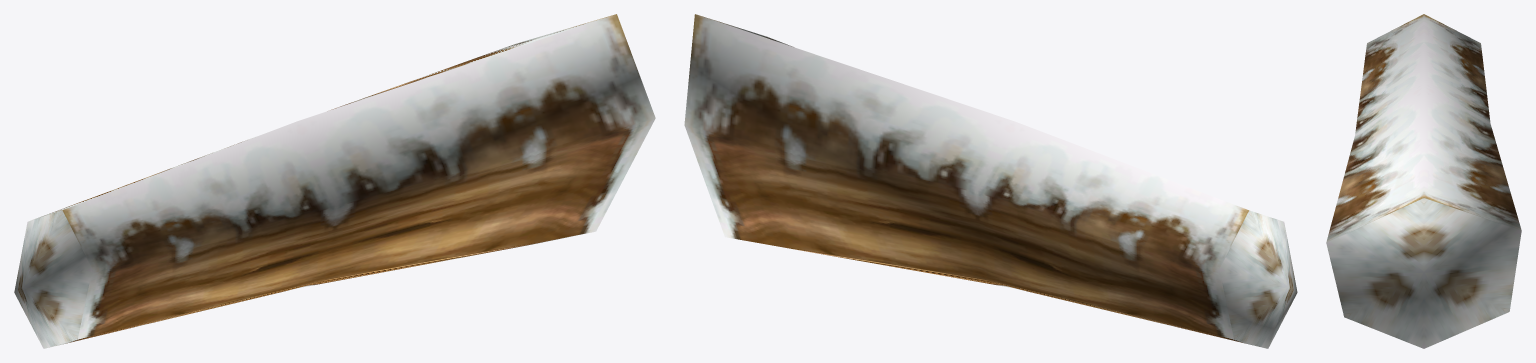
File: ironstump05.obj
3 views of the same model, side by side, from view 1: azimuth 30°, elevation 25°; view 2: azimuth 150°, elevation 25°; view 3: azimuth 270°, elevation 25° (orthographic). The views are drawn at different scales.
Visible parts, largest first — view 1: IRONSTUMP050; view 2: IRONSTUMP050; view 3: IRONSTUMP050.
Part boxes in pixels (x1,y1,x2,y2): IRONSTUMP050: [14, 14, 655, 348]; IRONSTUMP050: [684, 14, 1297, 348]; IRONSTUMP050: [1326, 14, 1521, 348].
Bounding box in the file's own units: 16.08 × 5.45 × 5.23.
1 material, 1 textured.
